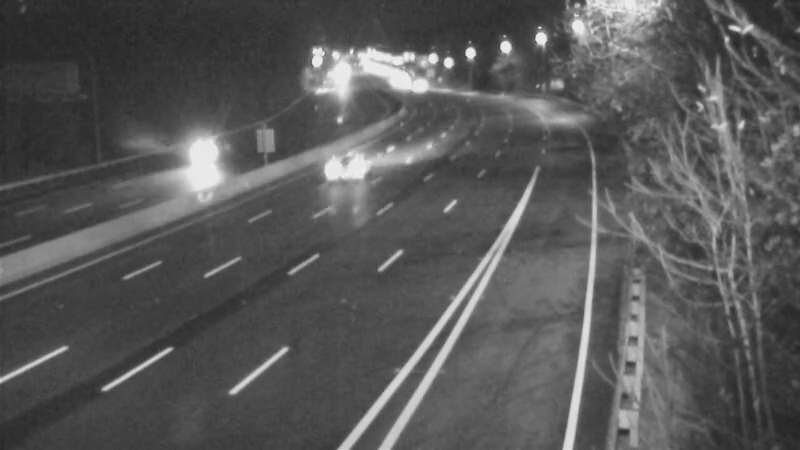vehicle: (308, 132, 388, 212), (148, 119, 228, 199)
